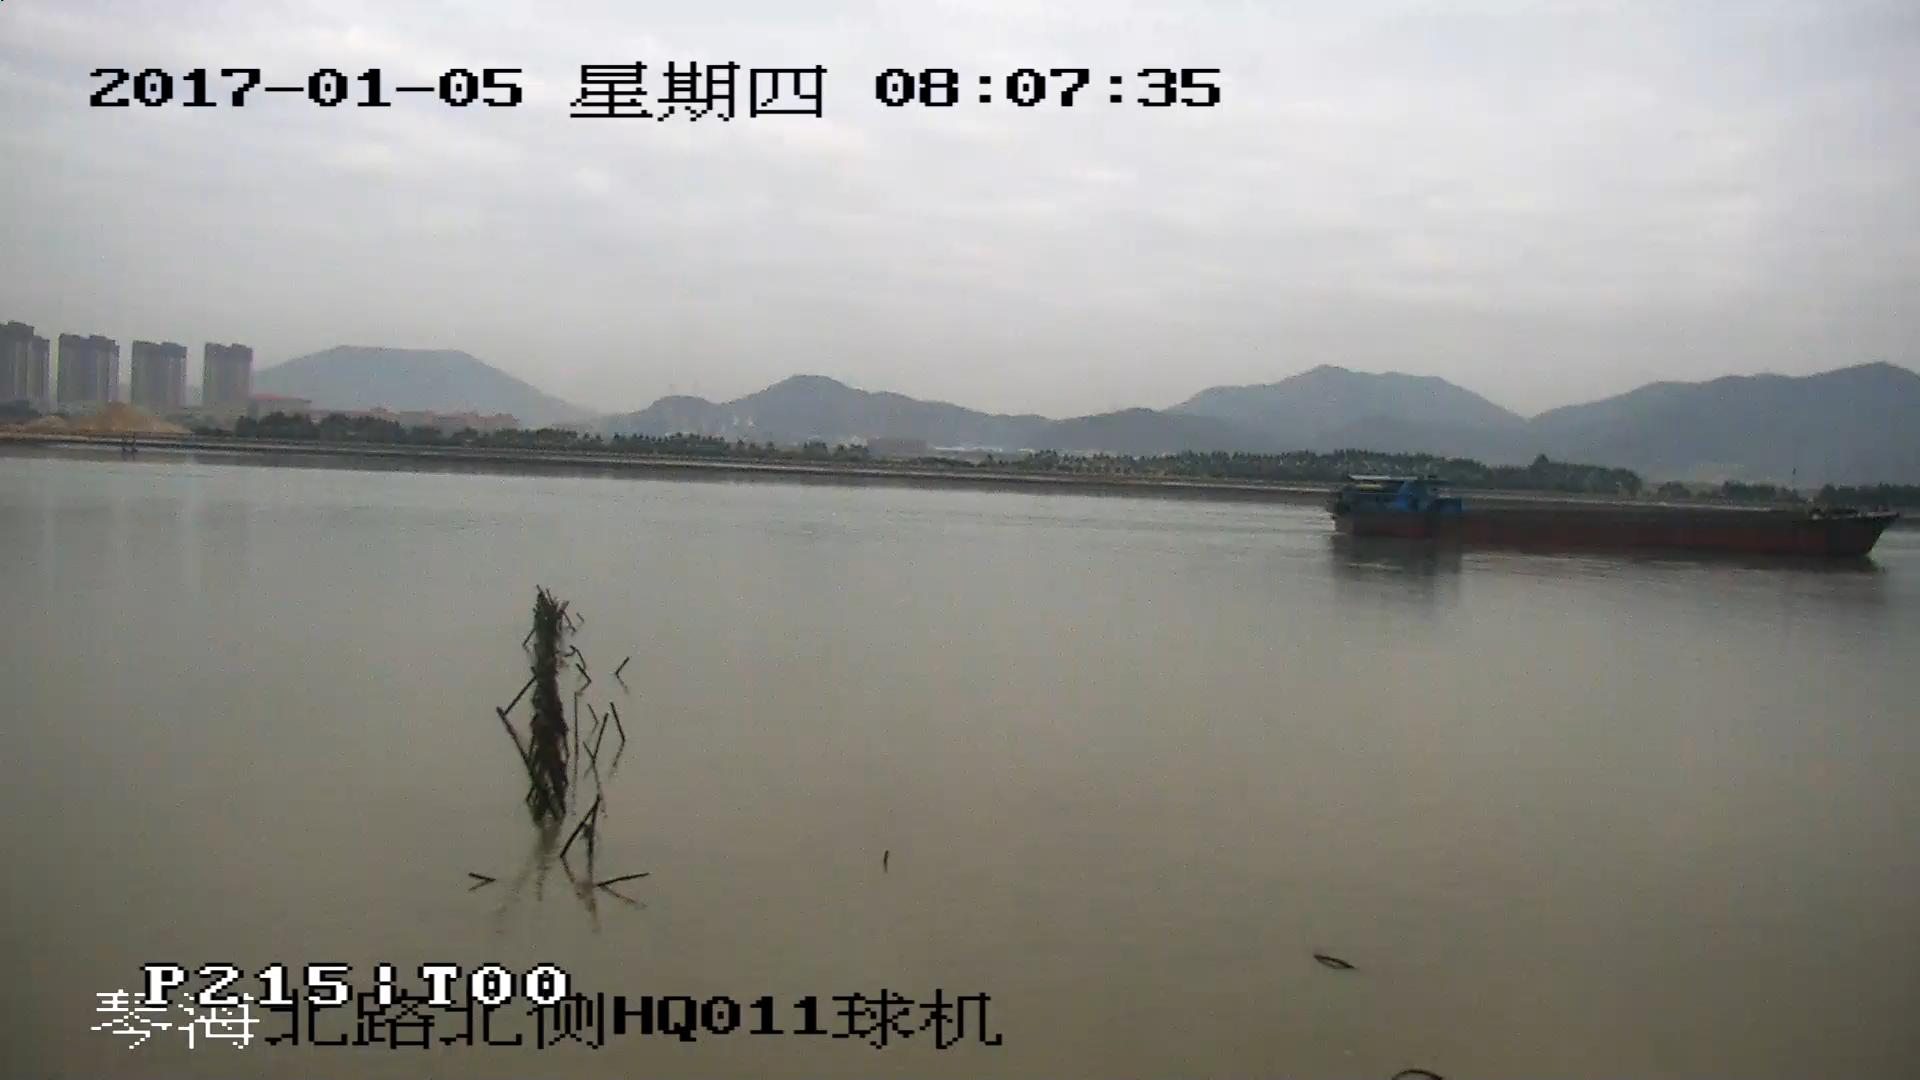bulk cargo carrier: (1329, 474, 1894, 558)
